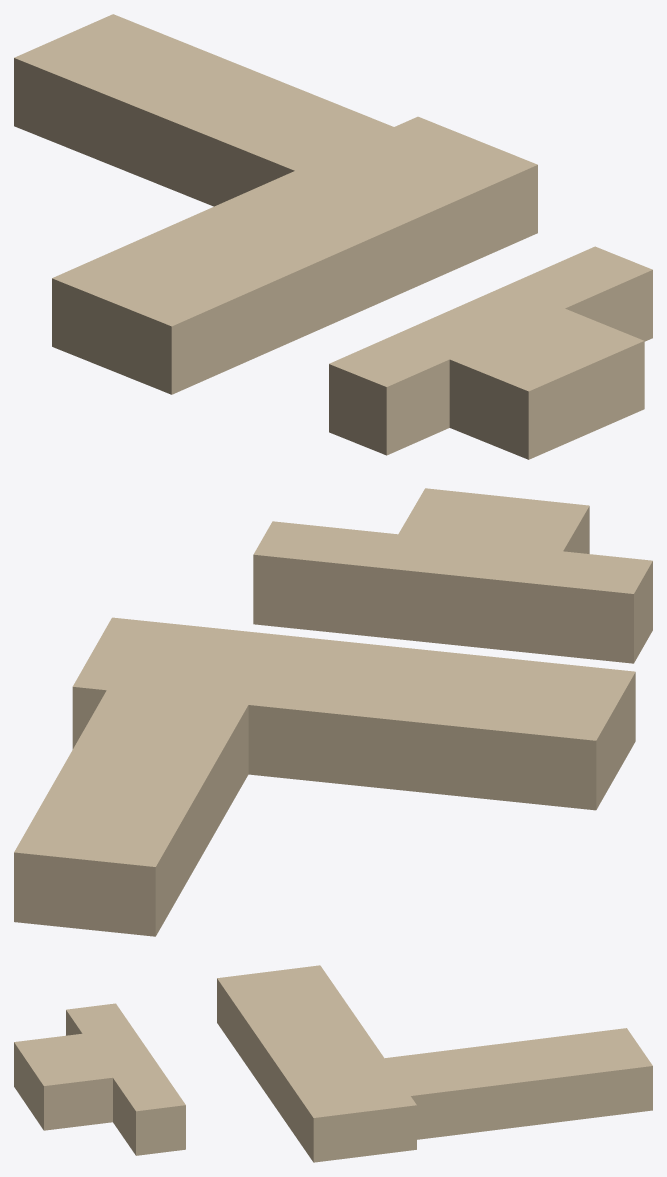
Rendered from overview-estimated--5_-1.glb.
3 renders of one model, top to bottom at view 1: azimuth 30°, elevation 25°; view 2: azimuth 150°, elevation 25°; view 3: azimuth 270°, elevation 25°, orthographic. The views are drawn at different scales.
Size of the model in its own units: 88.29 by 12 by 156.
